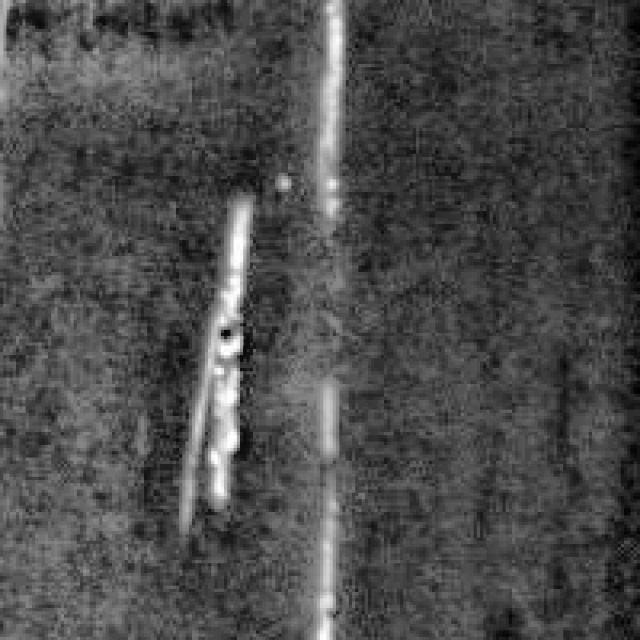Inclusion: (164, 192, 252, 502), (294, 378, 346, 634), (298, 0, 352, 221)
